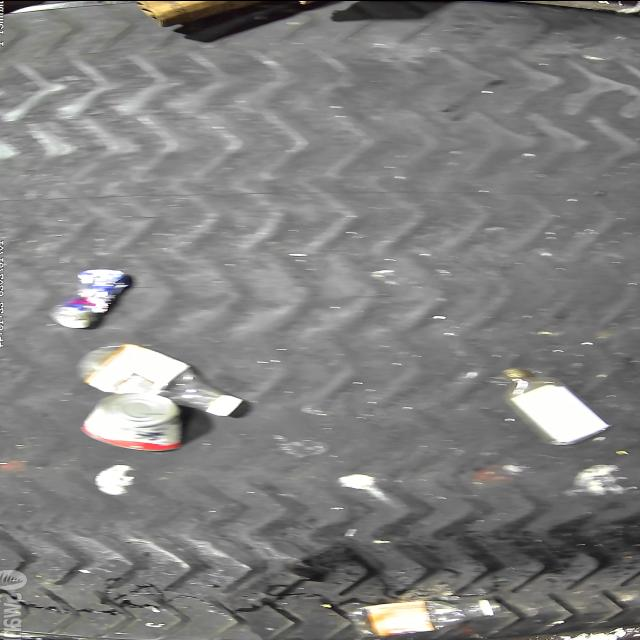can: (83, 394, 185, 452), (48, 266, 134, 328)
plastic_bottle: (74, 342, 244, 416), (498, 366, 610, 446), (343, 595, 499, 639)
